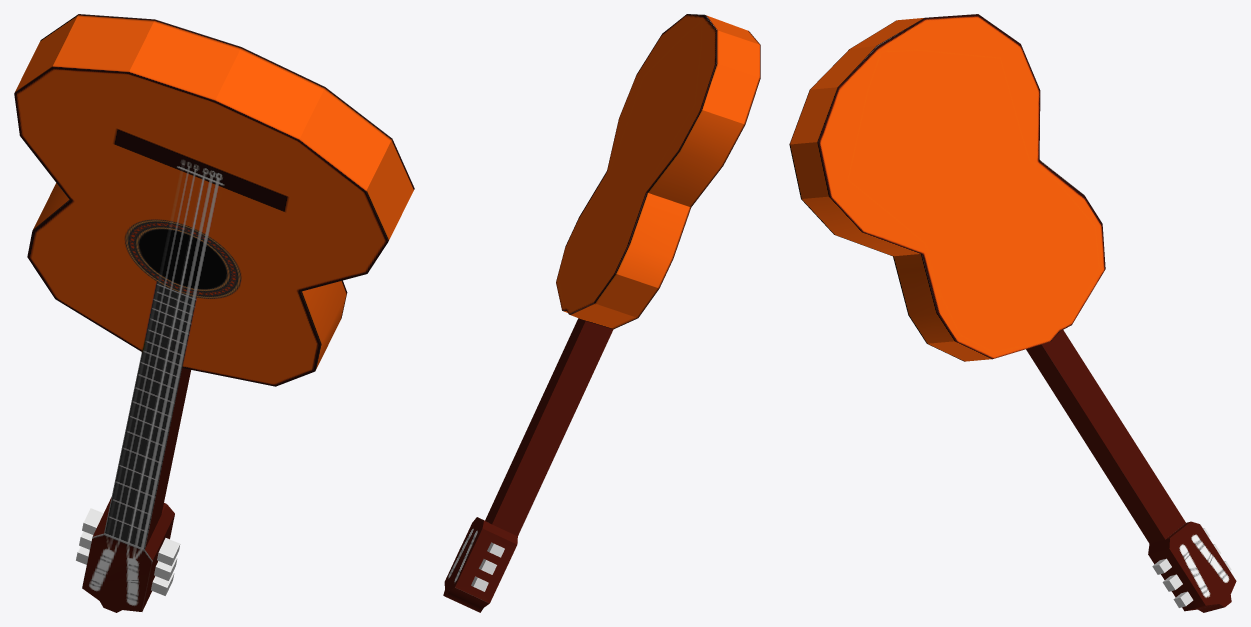
File: guitarra2_000211.obj
3 views of the same model, side by side, from view 1: azimuth 30°, elevation 25°; view 2: azimuth 150°, elevation 25°; view 3: azimuth 270°, elevation 25° (orthographic). The views are drawn at different scales.
Visible parts, largest first — view 1: g2_pPlane4.001; view 2: g2_pPlane4.001; view 3: g2_pPlane4.001.
Boxes of the visible parts, x1,y1,x2,y2 form: g2_pPlane4.001: [14, 14, 414, 612]; g2_pPlane4.001: [443, 14, 760, 612]; g2_pPlane4.001: [789, 14, 1236, 612].
Bounding box in the file's own units: 4.45 × 10.88 × 8.16.
